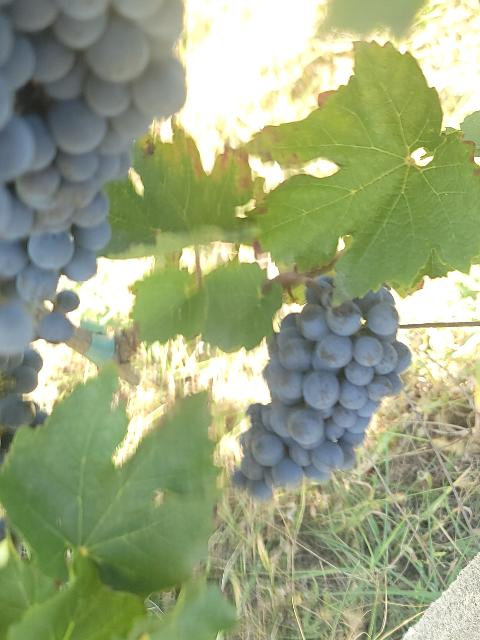grapes: (231, 275, 411, 501)
